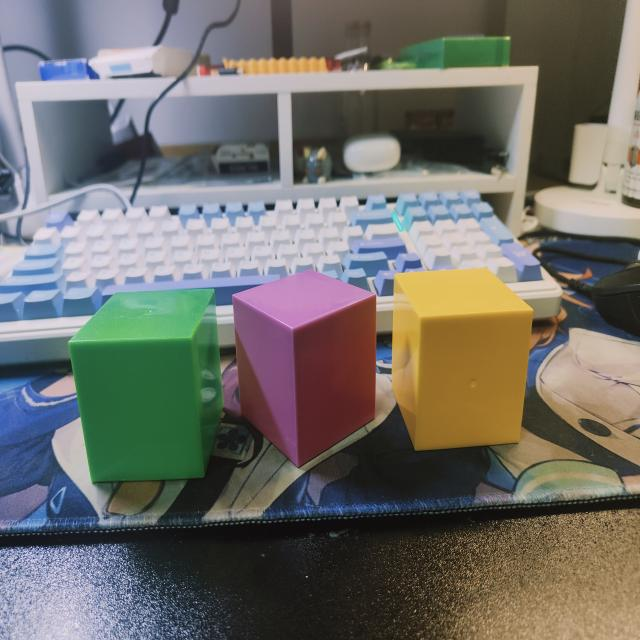green: (67, 287, 222, 488)
pink: (232, 271, 385, 471)
yellow: (392, 269, 534, 454)
